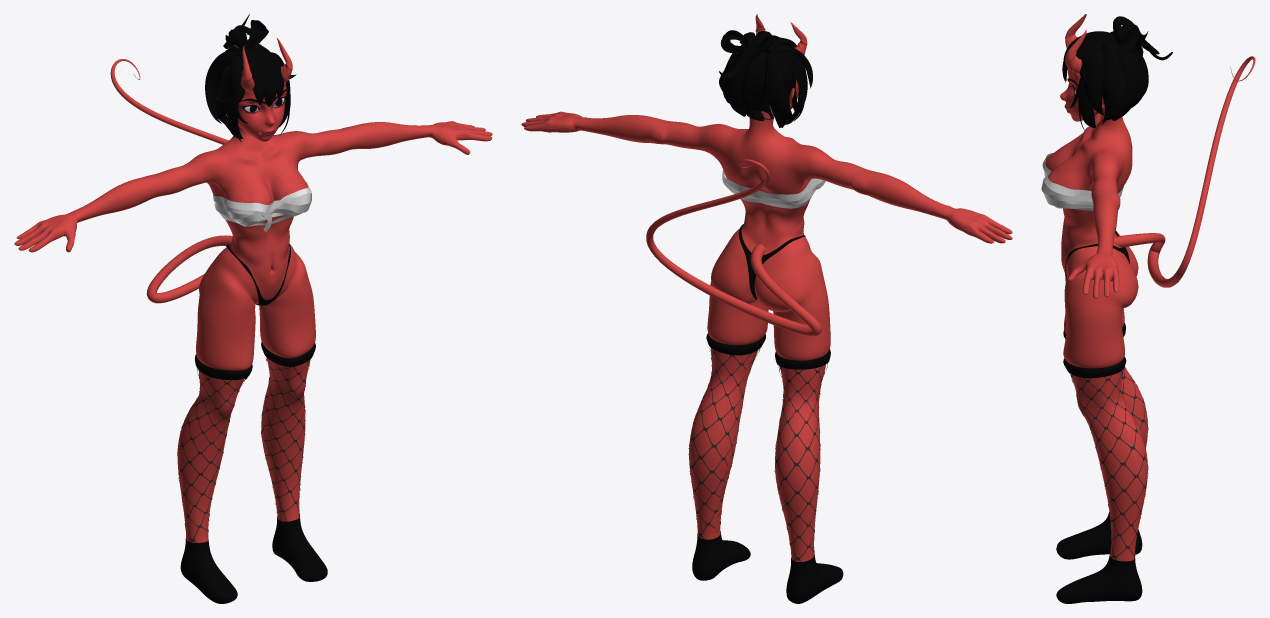
File: female_demon_girl_body_mesh_free.glb
The picture shows the model from 3 angles, left to right: view 1: azimuth 30°, elevation 25°; view 2: azimuth 150°, elevation 25°; view 3: azimuth 270°, elevation 25°; orthographic projection. The views are drawn at different scales.
Parts seen in each view (by area): view 1: Corpo_Retopo.001_1, Corpo_Retopo.012_10, Retopo_NurbsPath.001_14, NurbsPath.039_13, Plane.001_12, Circle_11; view 2: Corpo_Retopo.001_1, Corpo_Retopo.012_10, Retopo_NurbsPath.001_14, NurbsPath.039_13, Plane.001_12, Corpo_Retopo.004_6; view 3: Corpo_Retopo.001_1, Corpo_Retopo.012_10, Retopo_NurbsPath.001_14, NurbsPath.039_13, Plane.001_12, Circle_11.
Part boxes in pixels (<box>): Corpo_Retopo.001_1: <box>14,81,492,542</box>; Corpo_Retopo.012_10: <box>177,342,327,603</box>; Retopo_NurbsPath.001_14: <box>205,14,296,142</box>; NurbsPath.039_13: <box>110,59,232,303</box>; Plane.001_12: <box>213,182,311,232</box>; Circle_11: <box>241,38,292,90</box>; Corpo_Retopo.001_1: <box>521,79,1012,561</box>; Corpo_Retopo.012_10: <box>688,333,843,603</box>; Retopo_NurbsPath.001_14: <box>719,30,812,127</box>; NurbsPath.039_13: <box>646,157,821,336</box>; Plane.001_12: <box>722,170,825,208</box>; Corpo_Retopo.004_6: <box>745,44,796,105</box>; Corpo_Retopo.001_1: <box>1045,68,1147,561</box>; Corpo_Retopo.012_10: <box>1056,322,1148,603</box>; Retopo_NurbsPath.001_14: <box>1062,16,1172,131</box>; NurbsPath.039_13: <box>1113,56,1255,287</box>; Plane.001_12: <box>1041,153,1123,210</box>; Circle_11: <box>1065,14,1086,72</box>.
Size of the model in its own units: 1.57 by 1.73 by 0.6009.
Materials: 12 (5 with a texture image).
